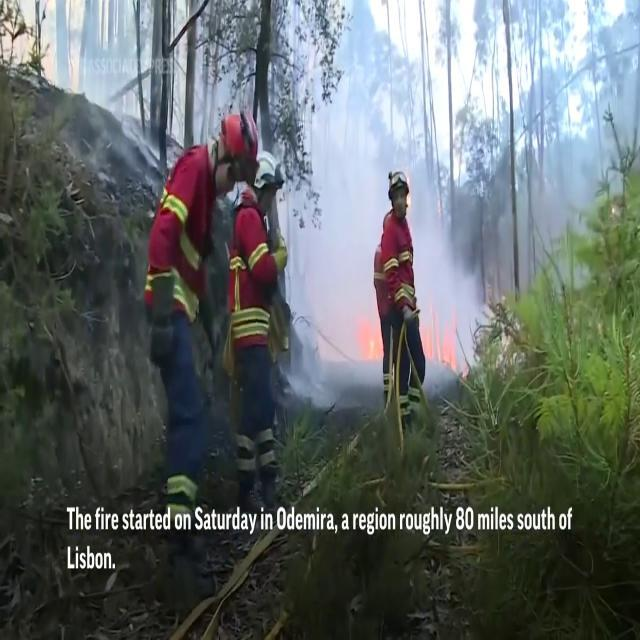Smoke: (284, 9, 482, 375), (510, 0, 640, 300)
